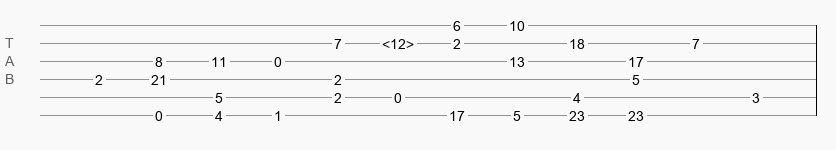0: (155, 108, 163, 118), (274, 54, 282, 64), (394, 90, 402, 100)
1: (274, 108, 282, 118)
10: (509, 18, 525, 28)
11: (211, 54, 227, 64)
13: (509, 54, 525, 64)
17: (449, 108, 465, 118), (628, 54, 644, 64)
18: (569, 36, 585, 46)
2: (95, 72, 103, 82), (334, 72, 342, 82), (334, 90, 342, 100), (453, 36, 461, 46)
21: (151, 72, 167, 82)
23: (569, 108, 585, 118), (628, 108, 644, 118)
3: (752, 90, 760, 100)
4: (215, 108, 223, 118), (573, 90, 581, 100)
5: (215, 90, 223, 100), (513, 108, 521, 118), (632, 72, 640, 82)
6: (453, 18, 461, 28)
7: (334, 36, 342, 46), (692, 36, 700, 46)
8: (155, 54, 163, 64)
harmonic: (382, 36, 414, 46)
